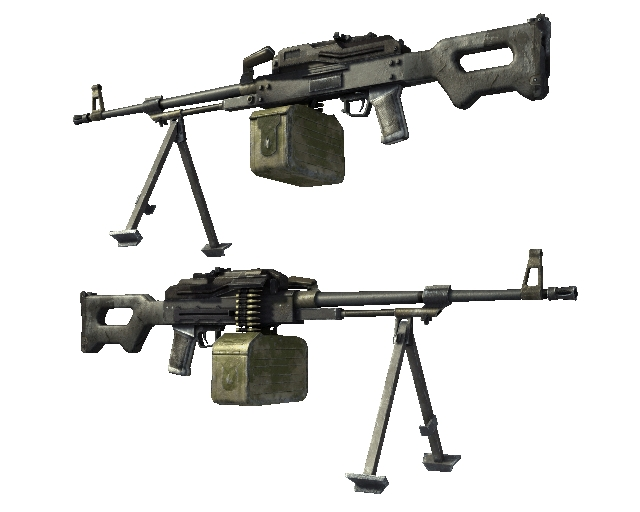rifle: (39, 266, 595, 497), (40, 13, 596, 244)
